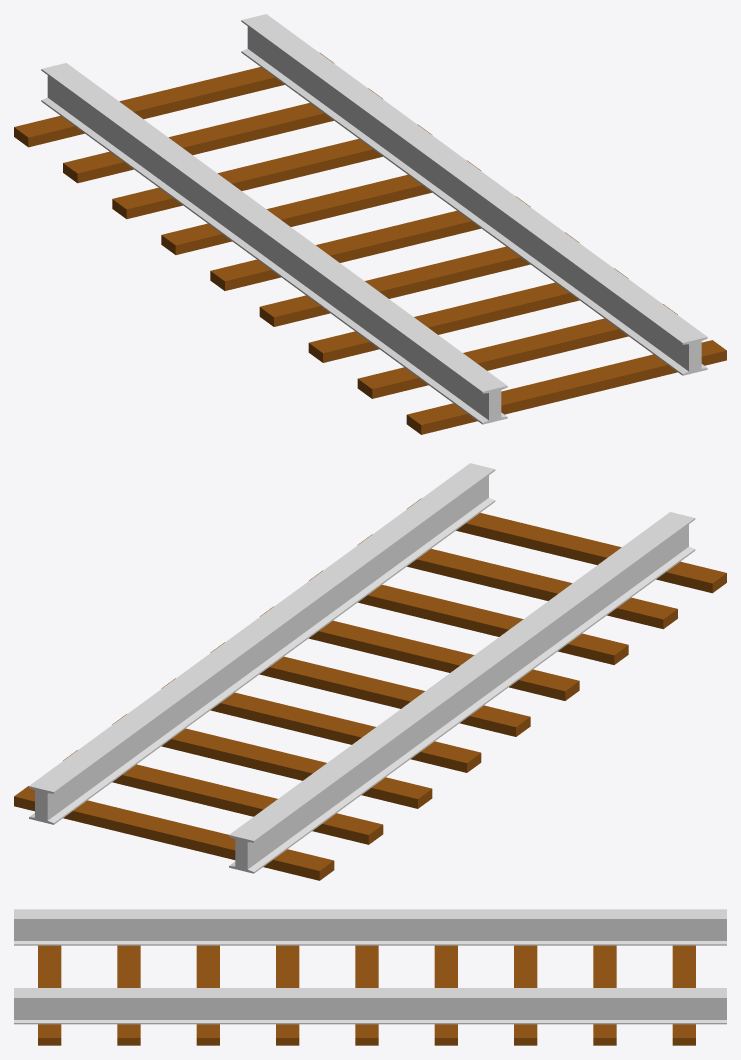
The model's file is Train Tracks.fbx.
3 views of the same model, one above another, from view 1: azimuth 30°, elevation 25°; view 2: azimuth 150°, elevation 25°; view 3: azimuth 270°, elevation 25° (orthographic). The views are drawn at different scales.
Visible parts, largest first — view 1: Tracks, Wooden Brackets; view 2: Tracks, Wooden Brackets; view 3: Tracks, Wooden Brackets.
Boxes of the visible parts, x1,y1,x2,y2 form: Tracks: (41,14,707,424); Wooden Brackets: (14,53,726,434); Tracks: (29,463,695,873); Wooden Brackets: (14,498,726,880); Tracks: (14,909,726,1024); Wooden Brackets: (38,945,695,1045).
Size of the model in its own units: 196 by 26 by 489.
